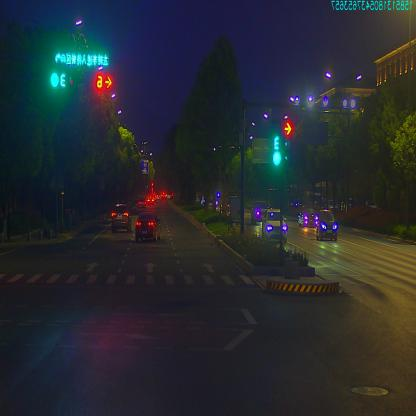traffic-light: (53, 49, 108, 67), (93, 74, 114, 94), (48, 71, 67, 92)
